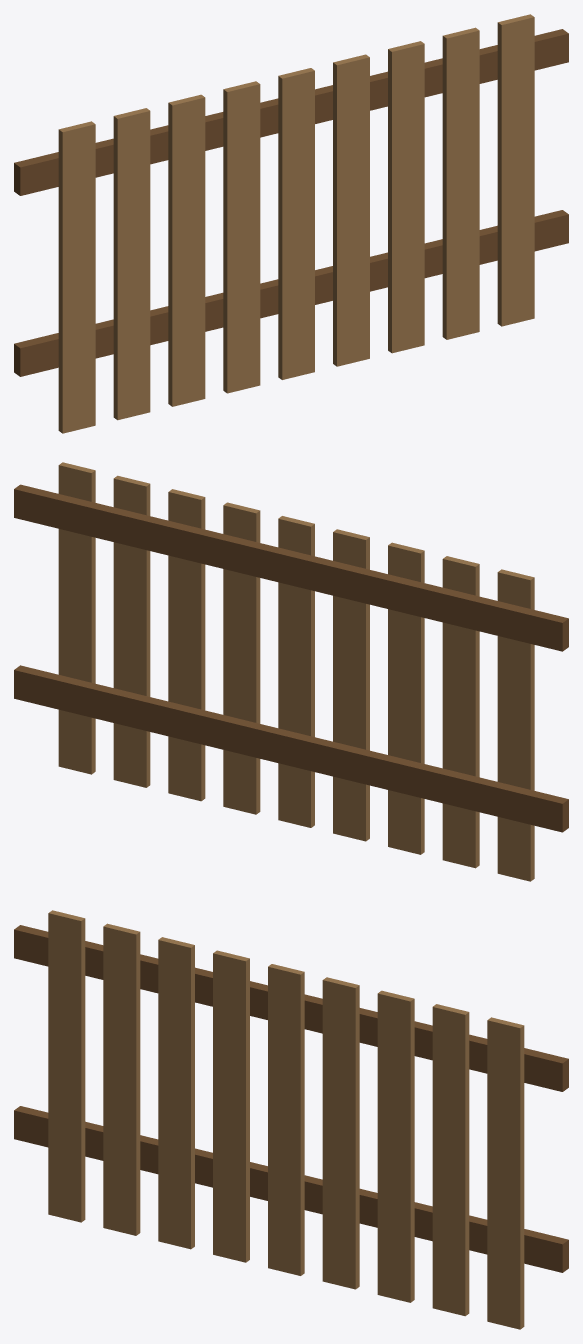
File: panel.glb
The picture shows the model from 3 angles, top to bottom: view 1: azimuth 30°, elevation 25°; view 2: azimuth 150°, elevation 25°; view 3: azimuth 330°, elevation 25°; orthographic projection.
Visible parts, largest first — view 1: placeholder; view 2: placeholder; view 3: placeholder.
Part boxes in pixels (bbox=[...]): placeholder: bbox=[14, 14, 568, 433]; placeholder: bbox=[14, 462, 568, 881]; placeholder: bbox=[14, 910, 568, 1329].
Size of the model in its own units: 2 by 1.05 by 0.065.
